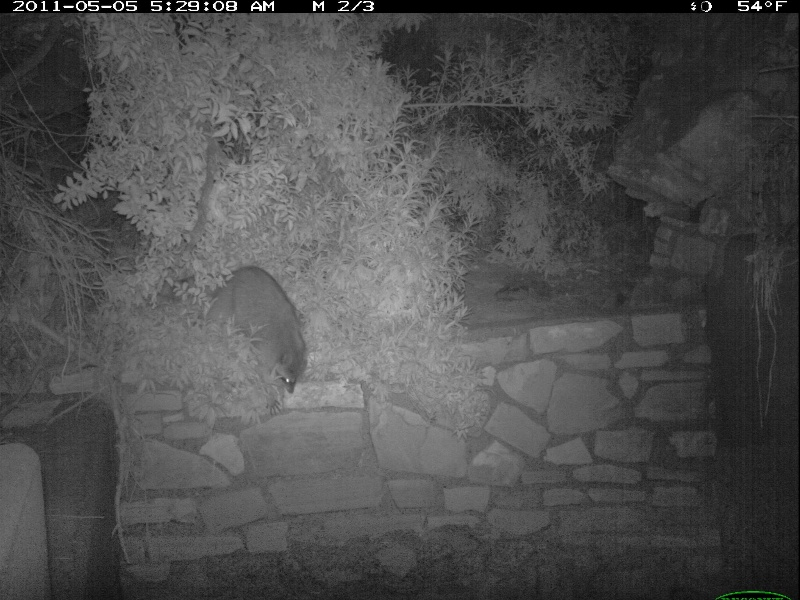raccoon: (203, 265, 310, 420)
